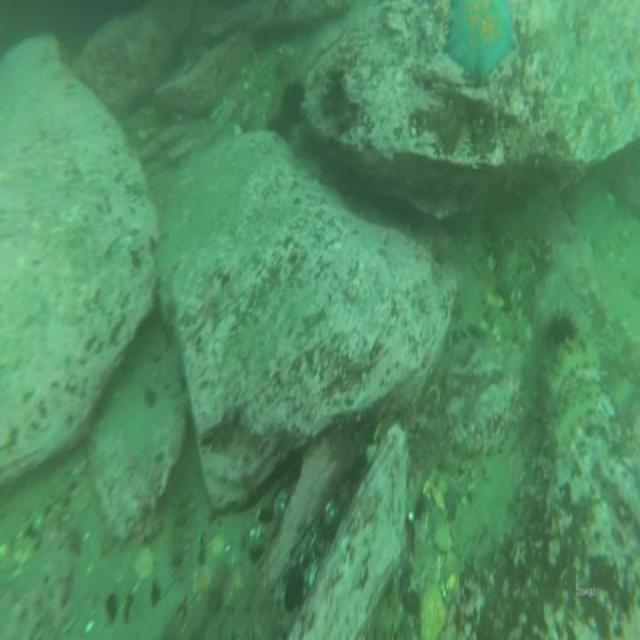echinus: (546, 311, 572, 346), (283, 84, 305, 118)
holothurian: (552, 342, 596, 394), (553, 400, 595, 446)
starfish: (449, 0, 515, 74)
